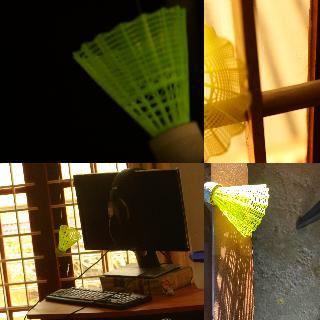shuttlecock: (73, 6, 203, 162), (204, 21, 251, 162), (204, 181, 269, 237), (56, 225, 80, 257)
